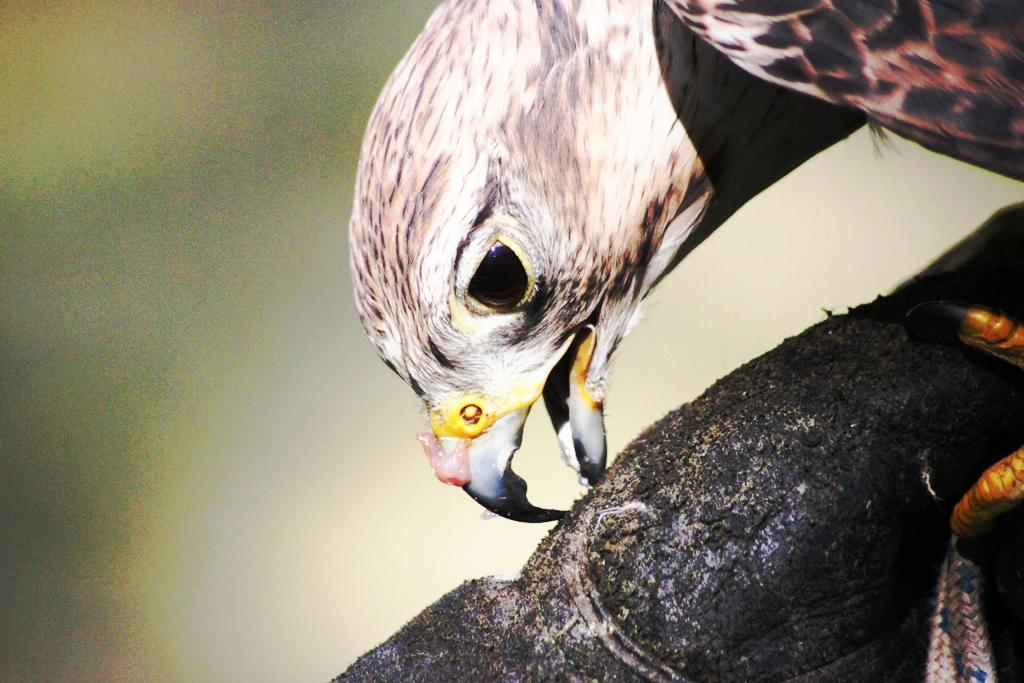Owl: (349, 0, 1024, 547)
